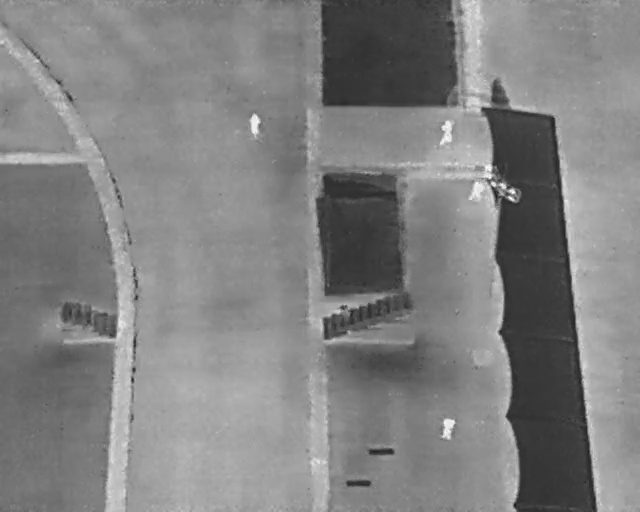Person: (245, 108, 264, 140), (438, 414, 458, 443), (440, 119, 453, 144)
